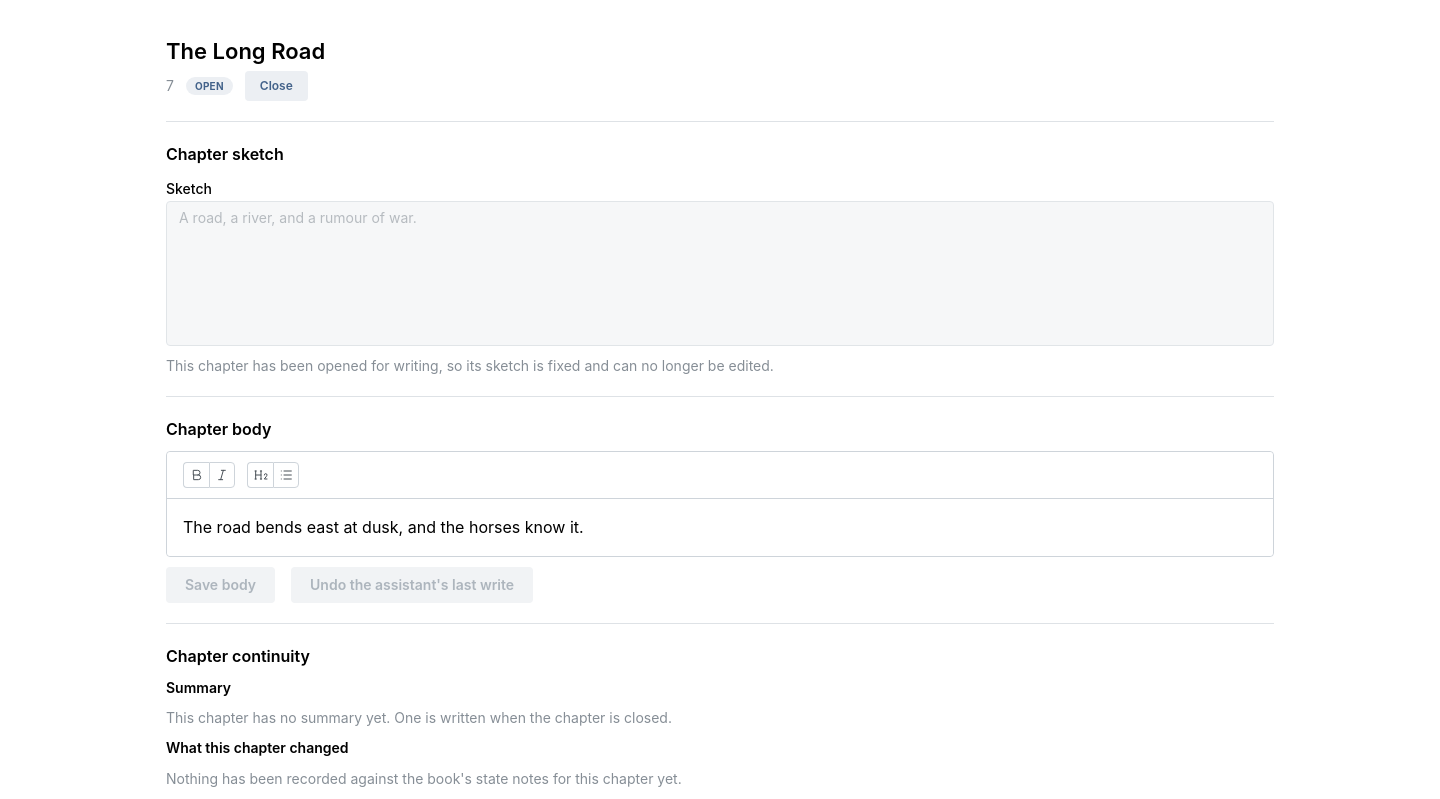
Scenario: a 403 from a transition (DoD-5) › DoD-5: a close on an archived book is refused the same way, and the chapter is still shown as open — US-038.AC-2, D10
This screenshot has width=1440, height=799.
Click the button "Close".
click(276, 86)  # box [245, 71, 308, 101]
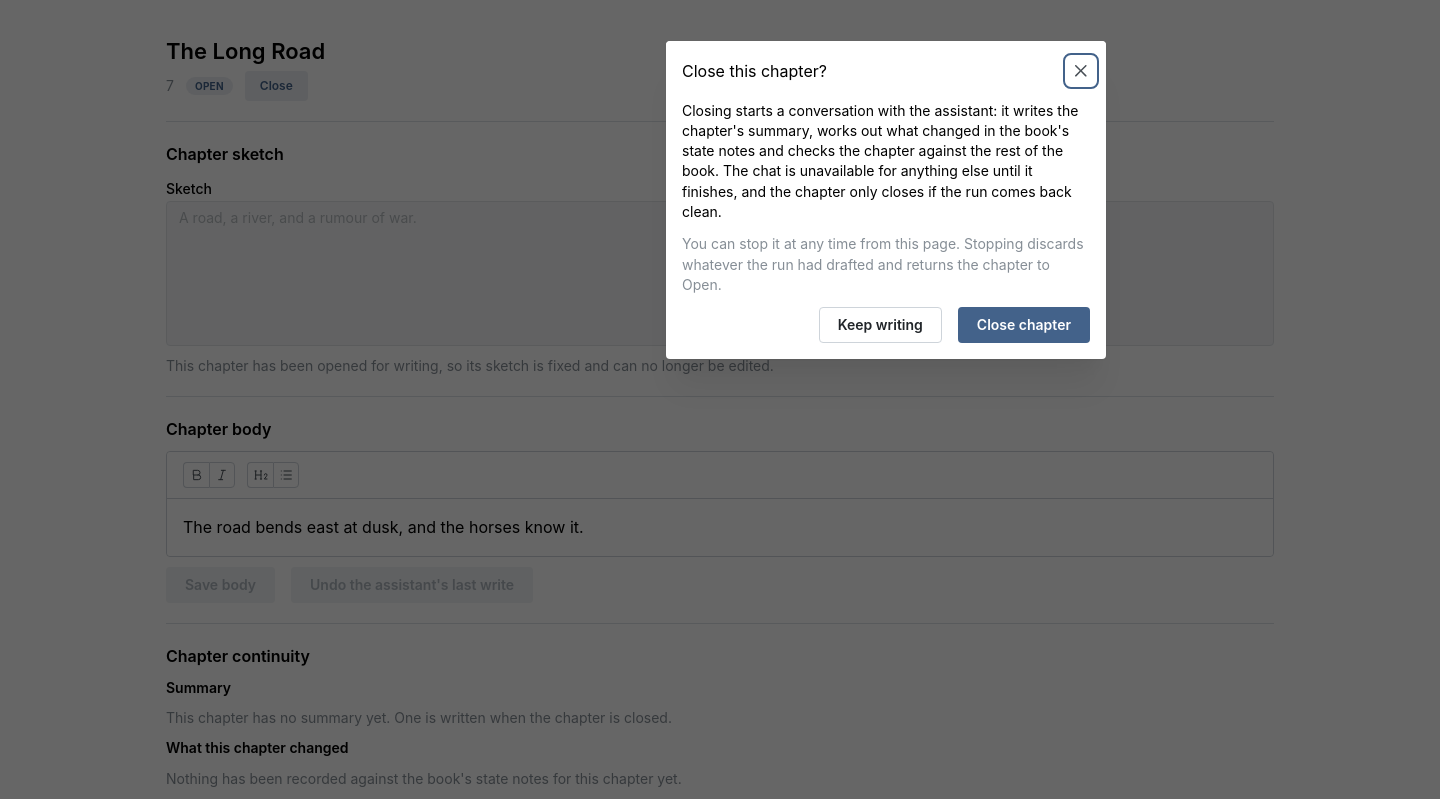
Click the button "Close chapter".
click(1024, 325)  # box [958, 307, 1090, 343]
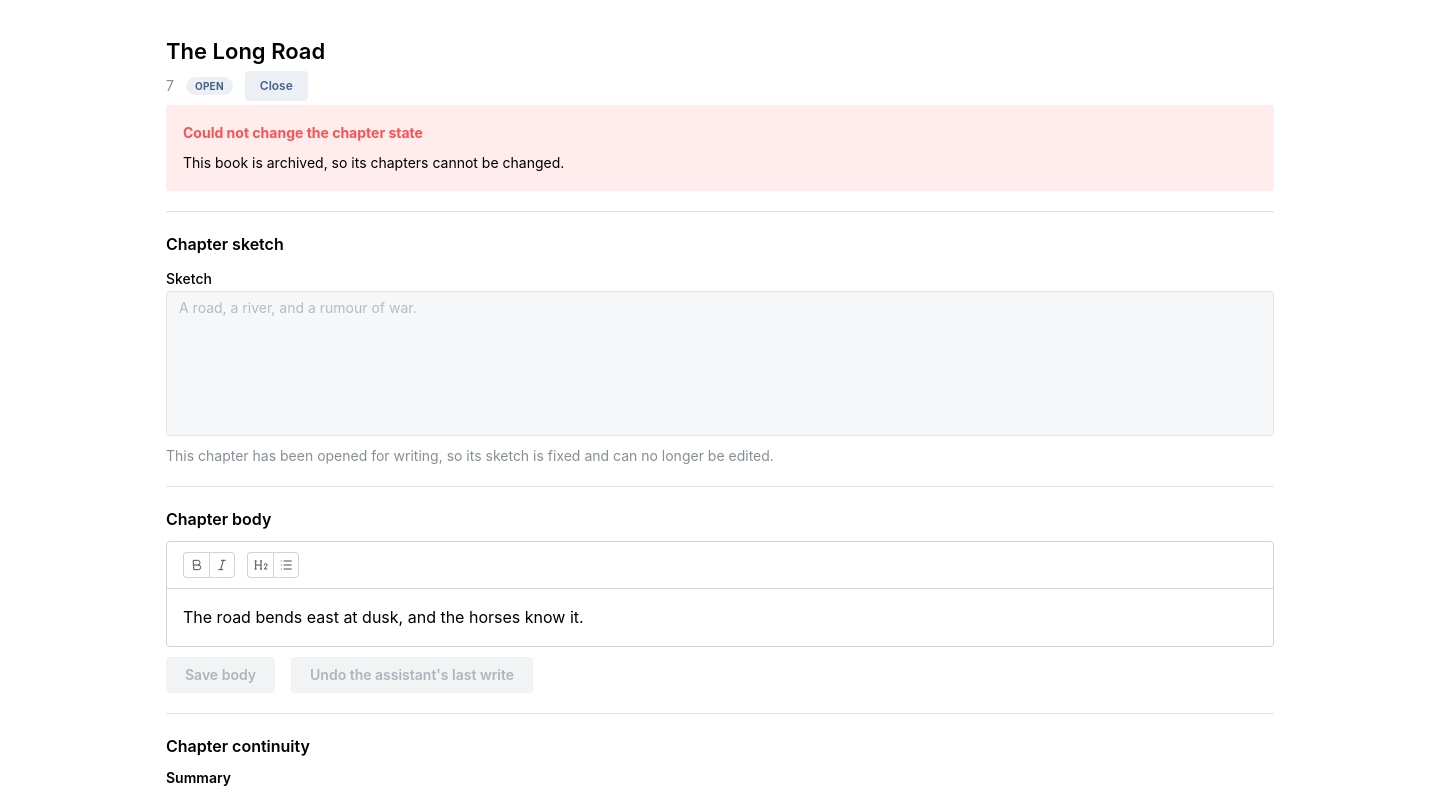
expect the text "Could not change the chapter state" is shown: met, box [183, 122, 423, 144]
expect the text "This book is archived, so its chapters cannot be changed." is shown: met, box [183, 154, 564, 172]
